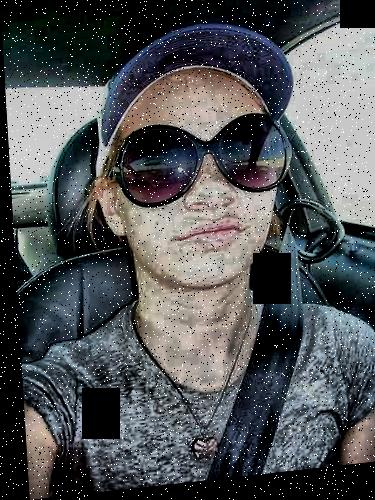seatbelt: (190, 208, 334, 474)
